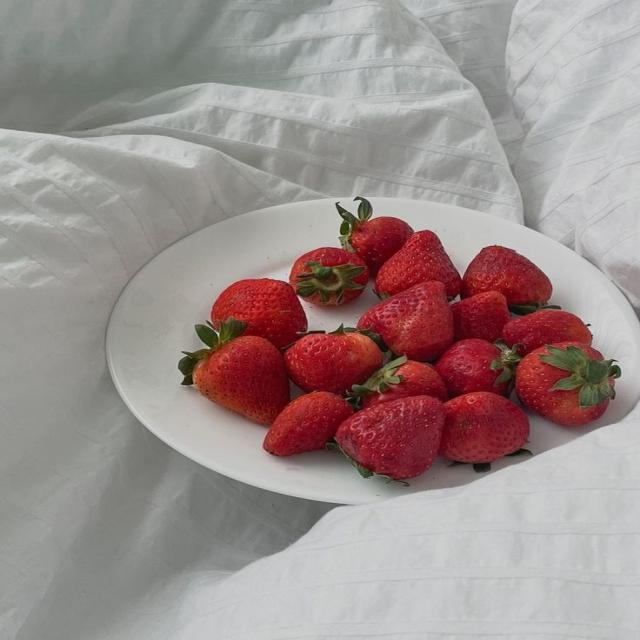strawberry: (179, 318, 289, 424), (335, 396, 444, 479), (516, 342, 620, 426), (358, 282, 453, 360), (285, 326, 382, 394), (211, 279, 306, 347), (440, 392, 529, 463), (336, 197, 413, 277), (263, 392, 353, 456), (376, 231, 460, 298), (461, 246, 552, 305), (352, 356, 447, 408), (435, 339, 519, 397), (290, 248, 368, 305), (503, 310, 592, 354), (452, 291, 510, 342)
